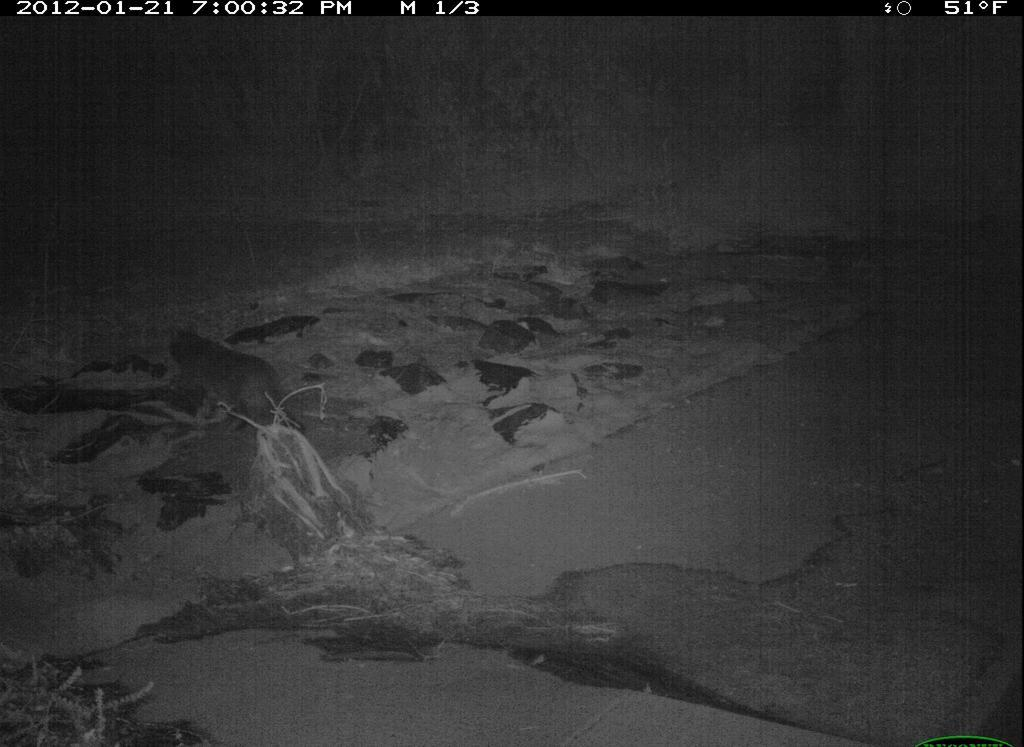cat: (162, 309, 305, 447)
